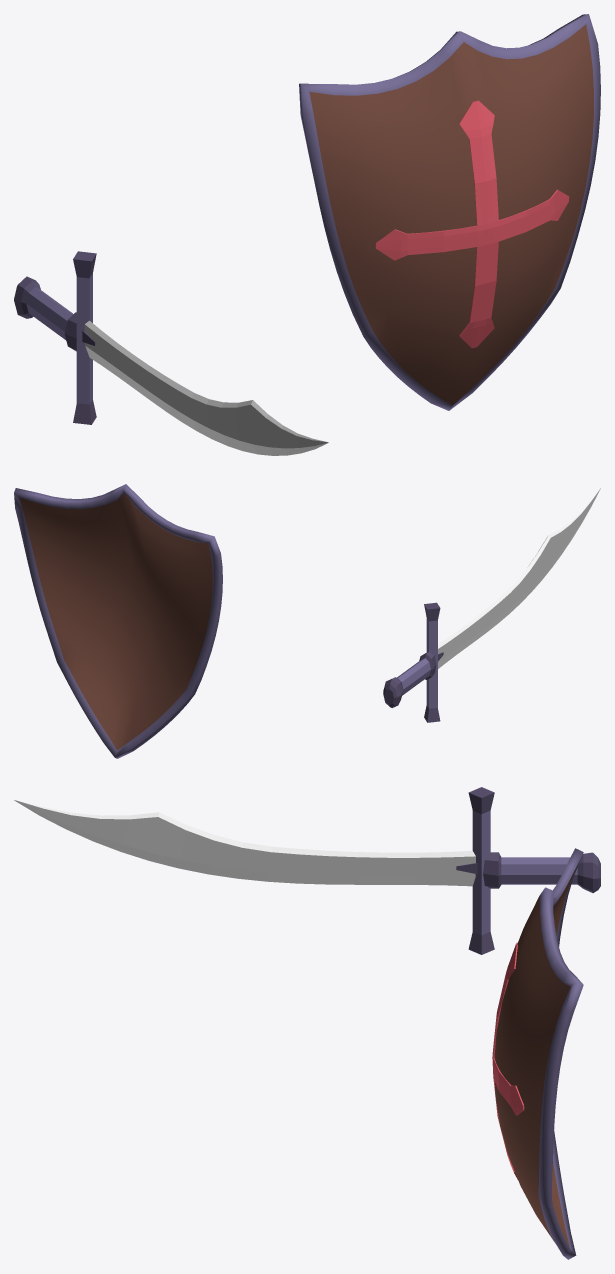
The model's file is SwordShield.fbx.
The picture shows the model from 3 angles, top to bottom: view 1: azimuth 30°, elevation 25°; view 2: azimuth 150°, elevation 25°; view 3: azimuth 270°, elevation 25°; orthographic projection. The views are drawn at different scales.
Parts seen in each view (by area): view 1: Shield, Sword; view 2: Shield, Sword; view 3: Sword, Shield.
Boxes of the visible parts, bbox=[...] form: Shield: bbox=[299, 14, 600, 410]; Sword: bbox=[14, 251, 328, 455]; Shield: bbox=[14, 484, 222, 758]; Sword: bbox=[383, 488, 600, 722]; Sword: bbox=[14, 787, 600, 954]; Shield: bbox=[492, 848, 583, 1259].
Size of the model in its own units: 93.92 by 61.23 by 87.41.
